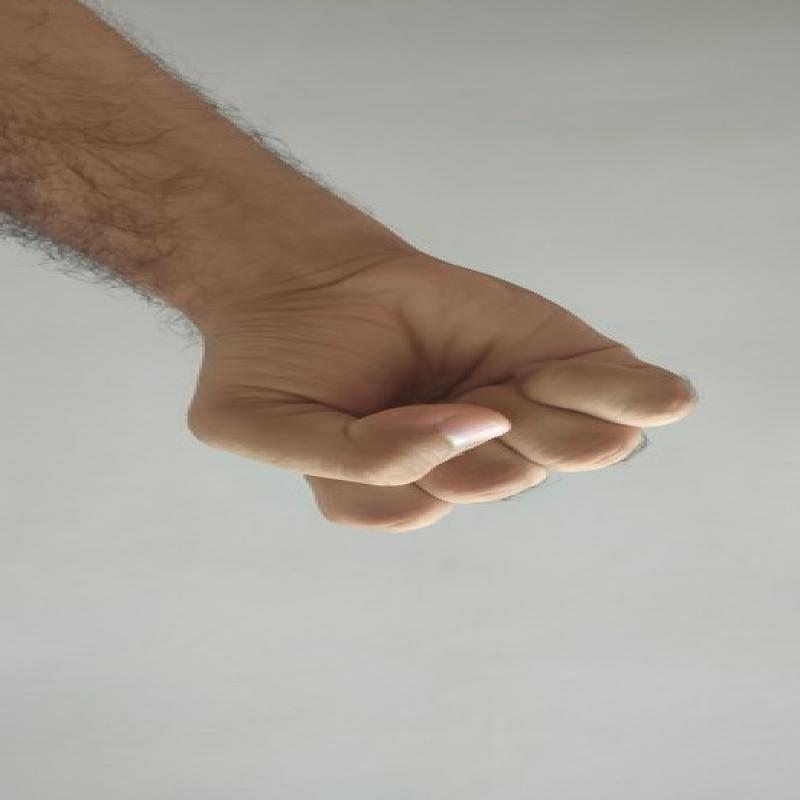Mushti: (186, 262, 712, 545)
